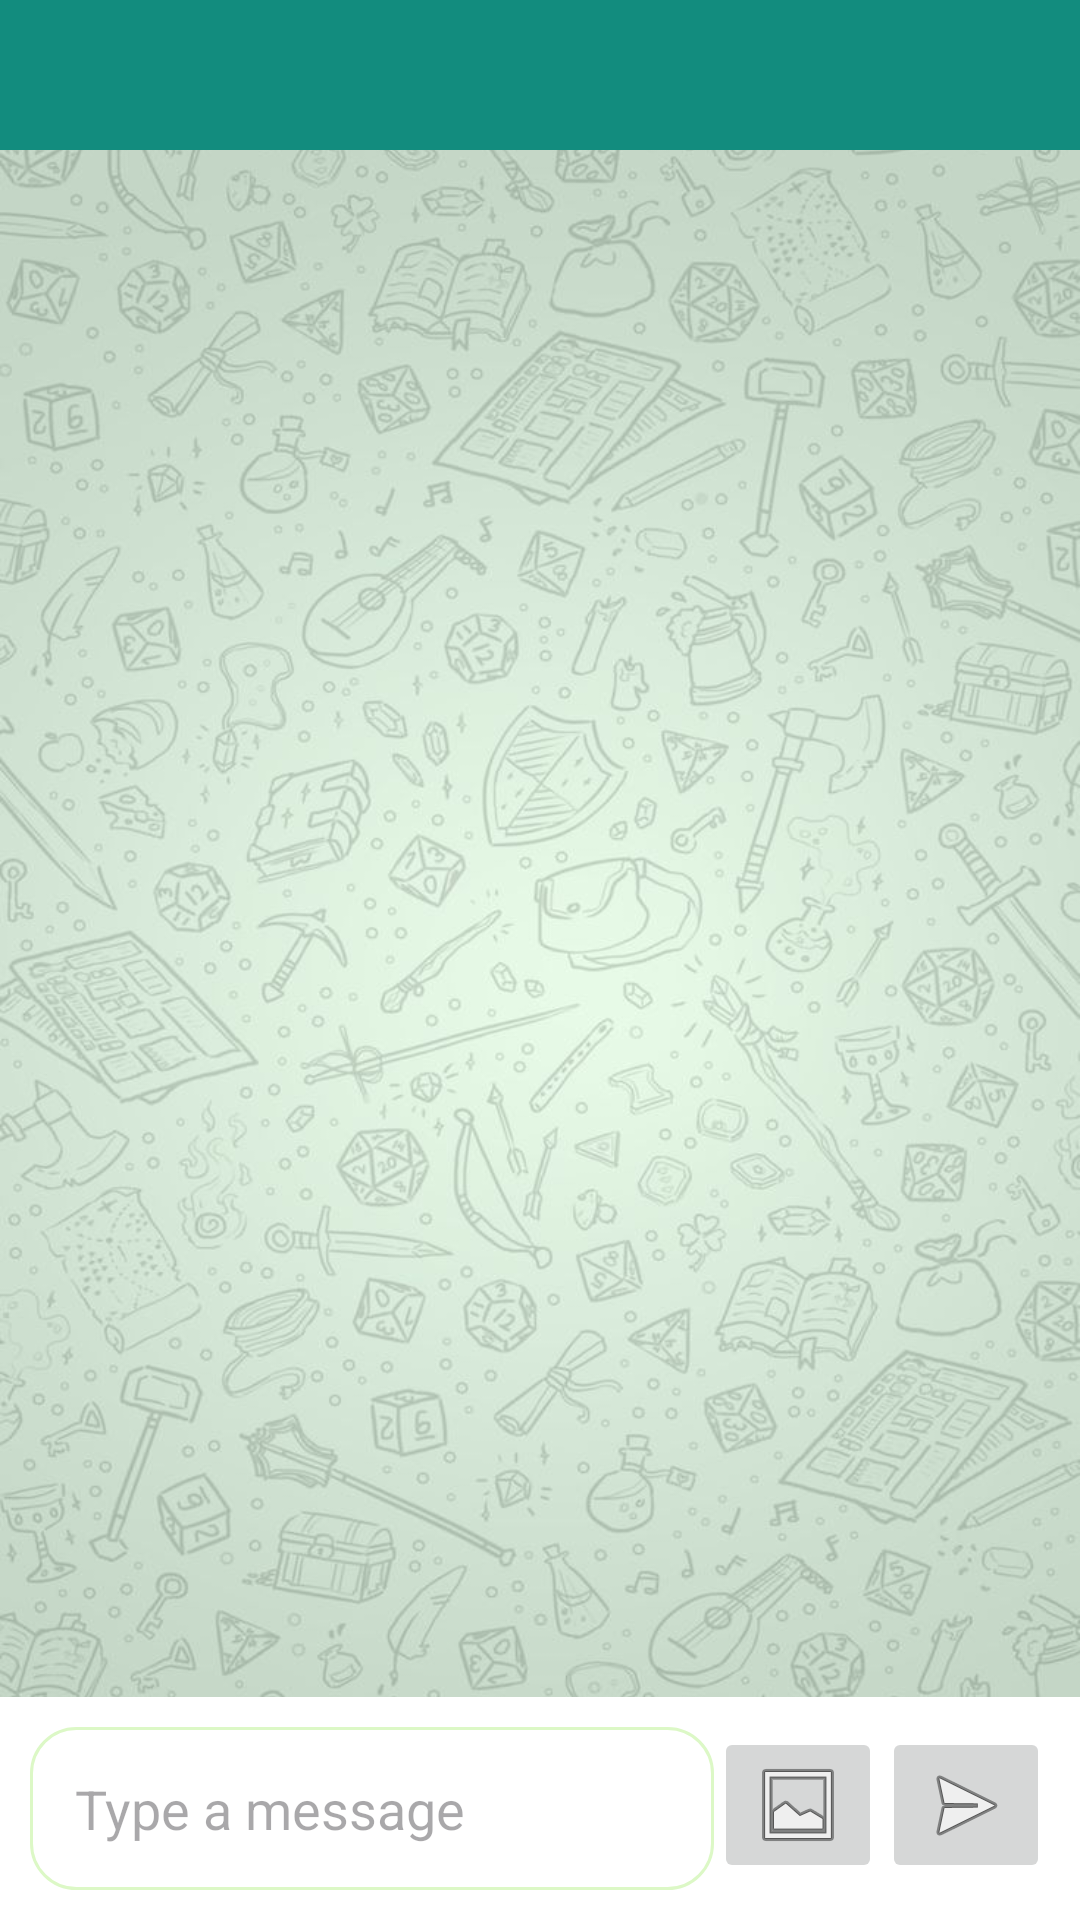

Named icons in this screenshot (1080 x 1920) and their bounding boxes, bbox=(x1, y1, x2, y2):
gallery: bbox=(726, 1745, 870, 1865)
send: bbox=(894, 1745, 1038, 1865)
